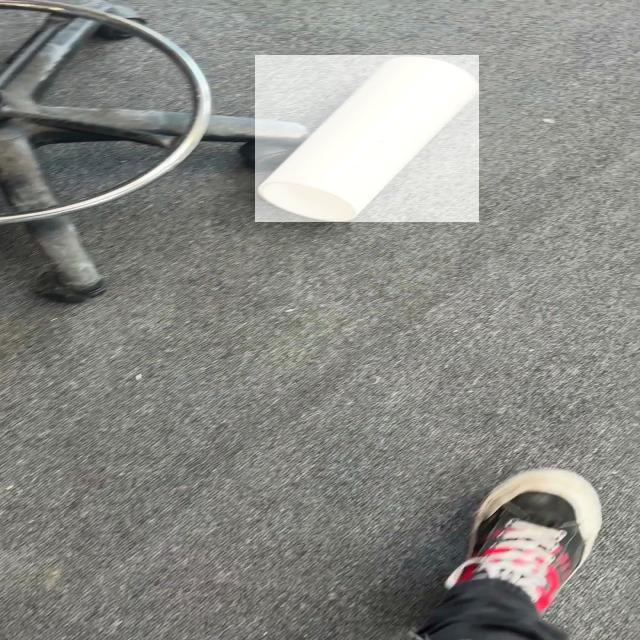Coral: (255, 55, 479, 222)
